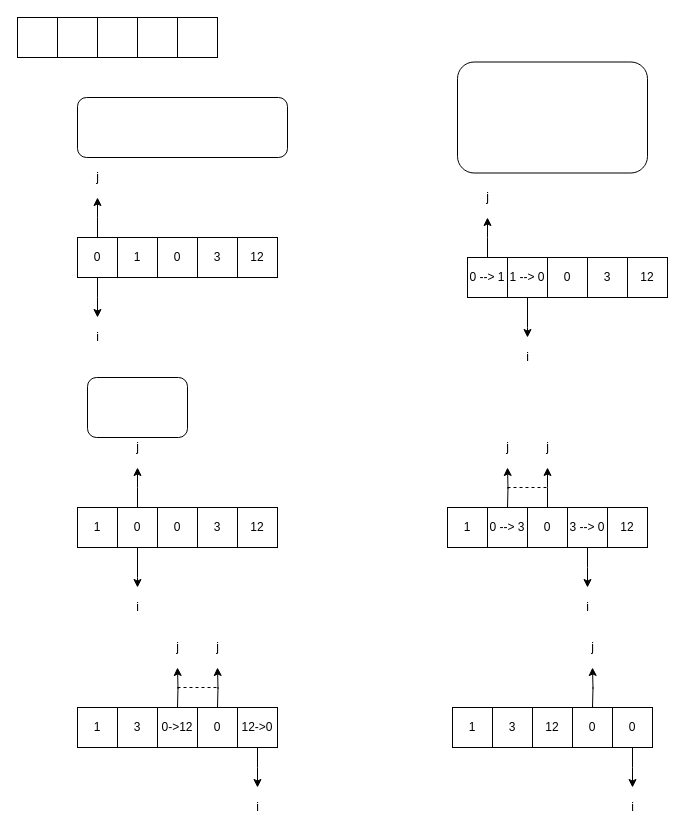
Image size: 685x835. Some labels were removed from this diagram. The shapes that lost their labels are listed below. From the top down, each one's box as (x1, y1, x2, y2) in pixels, then its label:
(76, 96, 288, 158): let j = 0, i = 0 到 arr.length循环 如果：arr[ i ] == 0 跳过
(456, 61, 648, 173): 如果arr[ i ] !== 0: arr[ i ] == 1; arr[ j ] = arr[ i ] 如果 i !==j : arr[ i ] = 0
(86, 376, 188, 438): j++
